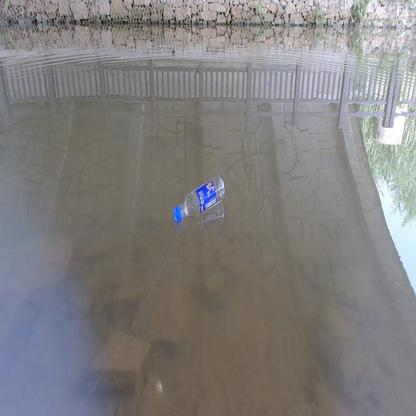plastic bottle: (171, 176, 223, 221)
